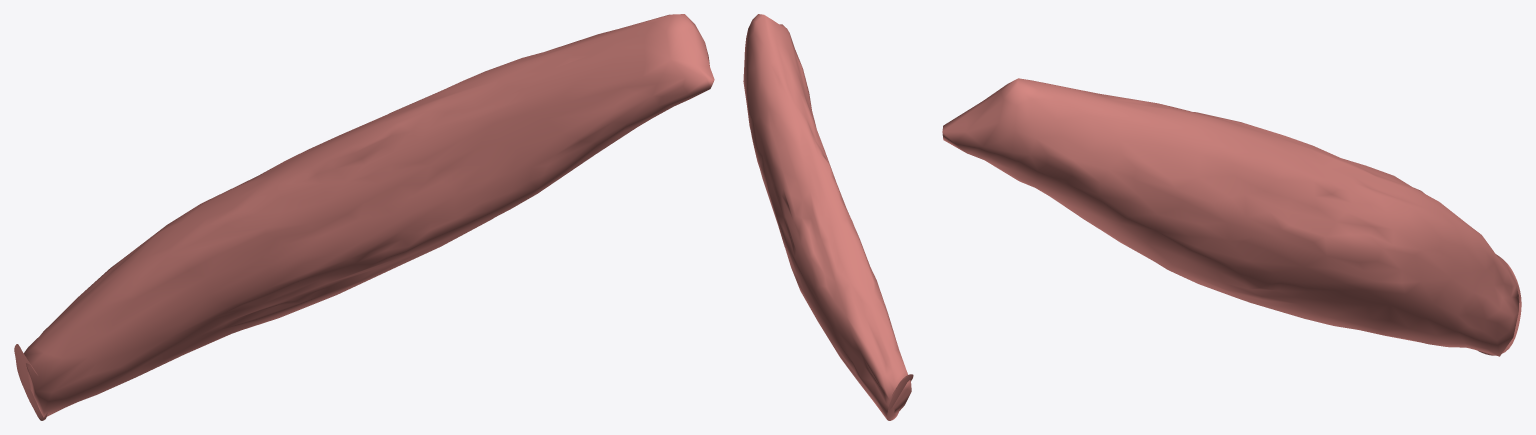
File: fma32537_mm1311.glb
3 views of the same model, side by side, from view 1: azimuth 30°, elevation 25°; view 2: azimuth 150°, elevation 25°; view 3: azimuth 270°, elevation 25° (orthographic). The views are drawn at different scales.
Visible parts, largest first — view 1: FMA32537_MM1311; view 2: FMA32537_MM1311; view 3: FMA32537_MM1311.
Part boxes in pixels (left/top/right/bottom): FMA32537_MM1311: left=14, top=14, right=714, bottom=420; FMA32537_MM1311: left=743, top=14, right=913, bottom=420; FMA32537_MM1311: left=942, top=78, right=1521, bottom=356.
Size of the model in its own units: 0.0376 by 0.0336 by 0.0341.
